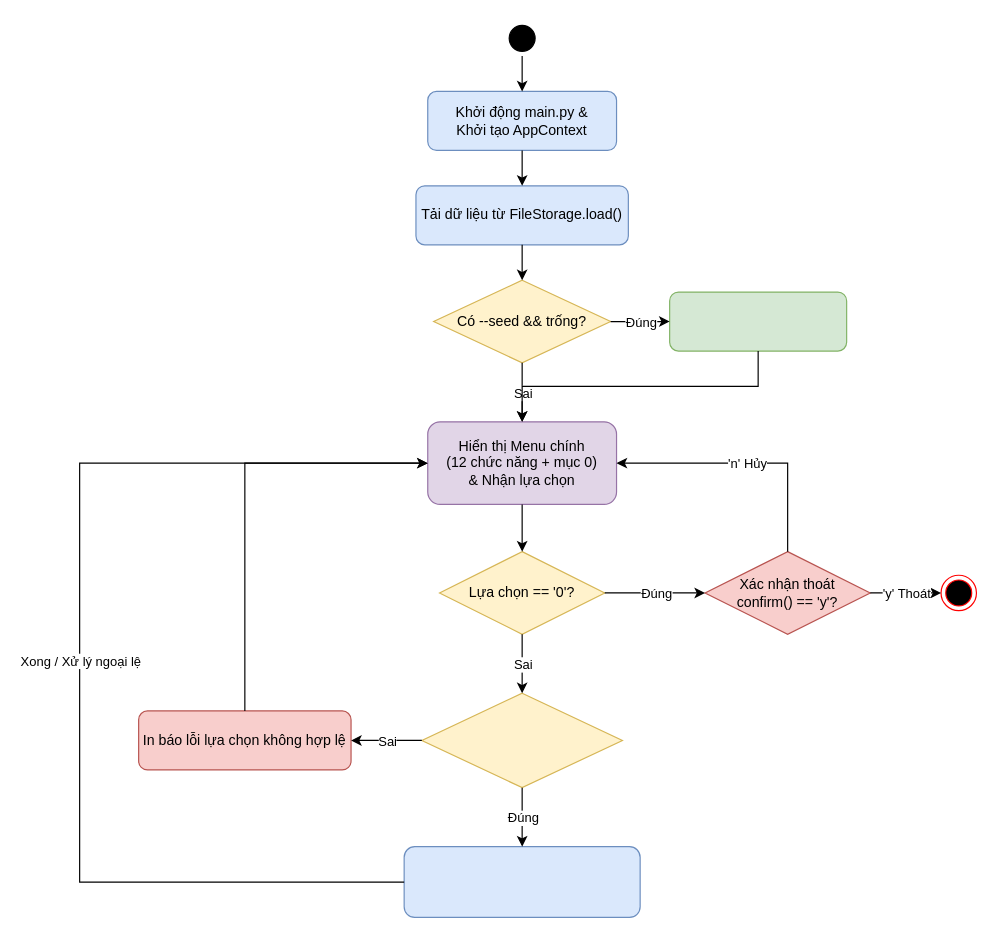
The diagram is 997 pixels wide and 938 high, and some of its shapes have lost their labels. The box of each missing label's shape, as (x1, y1, x2, y2) in pixels:
Lựa chọn hợp lệ trong MENU 1..12?: (421, 692, 622, 788)
seed_sample_data(ctx) (3 PB + 6 NV mẫu): (668, 291, 847, 351)
Thực thi Handler tương ứng(ctx) (Có khối try - except bảo vệ): (403, 845, 640, 917)
